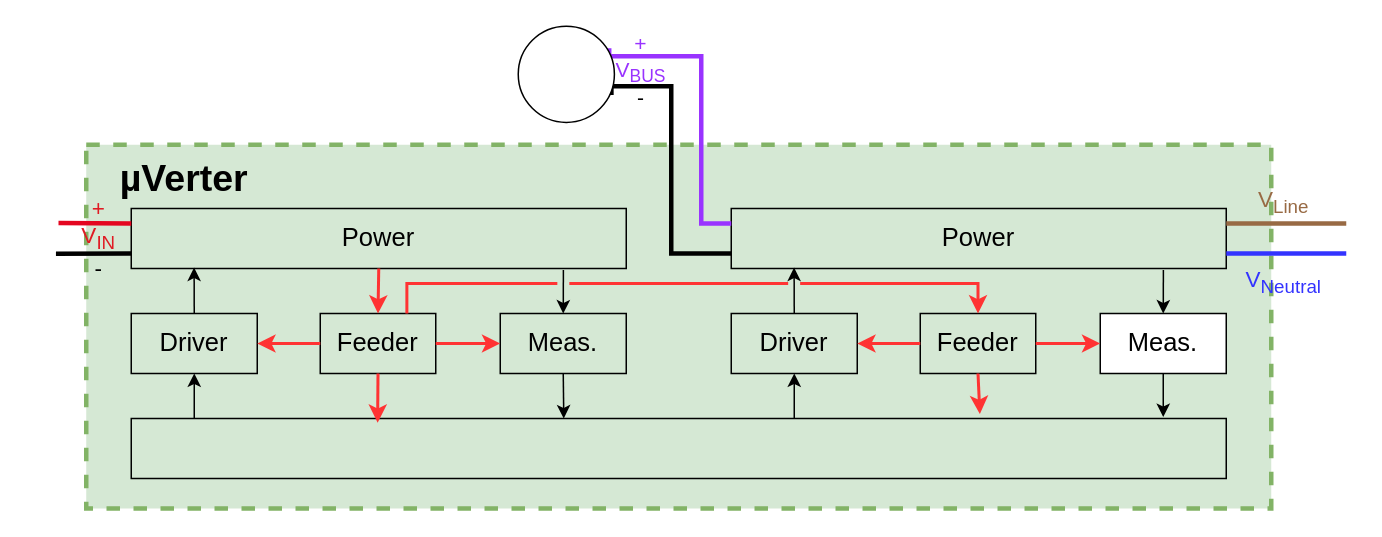
Some shapes in this 1382 by 537 pixel diagram are drawn without their labels. The shapes that lost their labels are listed below. From the top down, each one's centre as x and y in pixels, then its label:
At pixel 565 73: "+ Vsource -".
At pixel 678 447: "Micro-controller".
